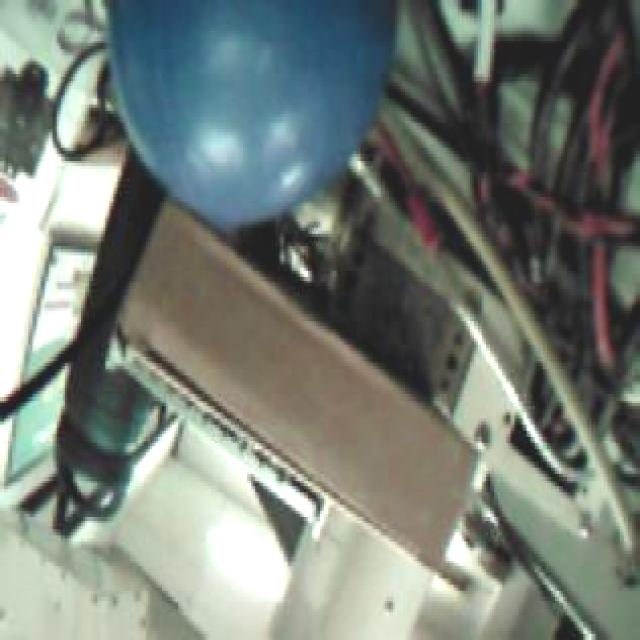BallPurple: (104, 0, 396, 227)
